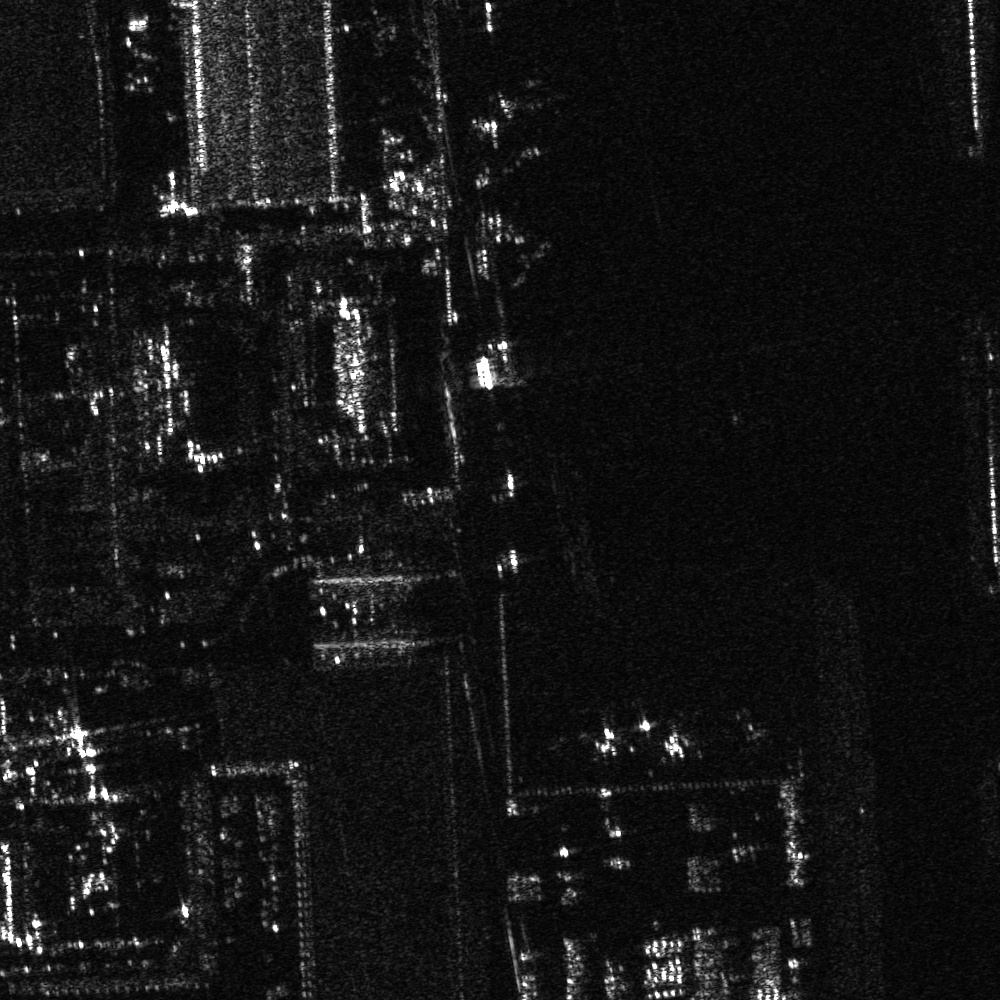ARJ21: (577, 719, 628, 765)
other: (502, 72, 583, 119), (646, 714, 699, 764)
